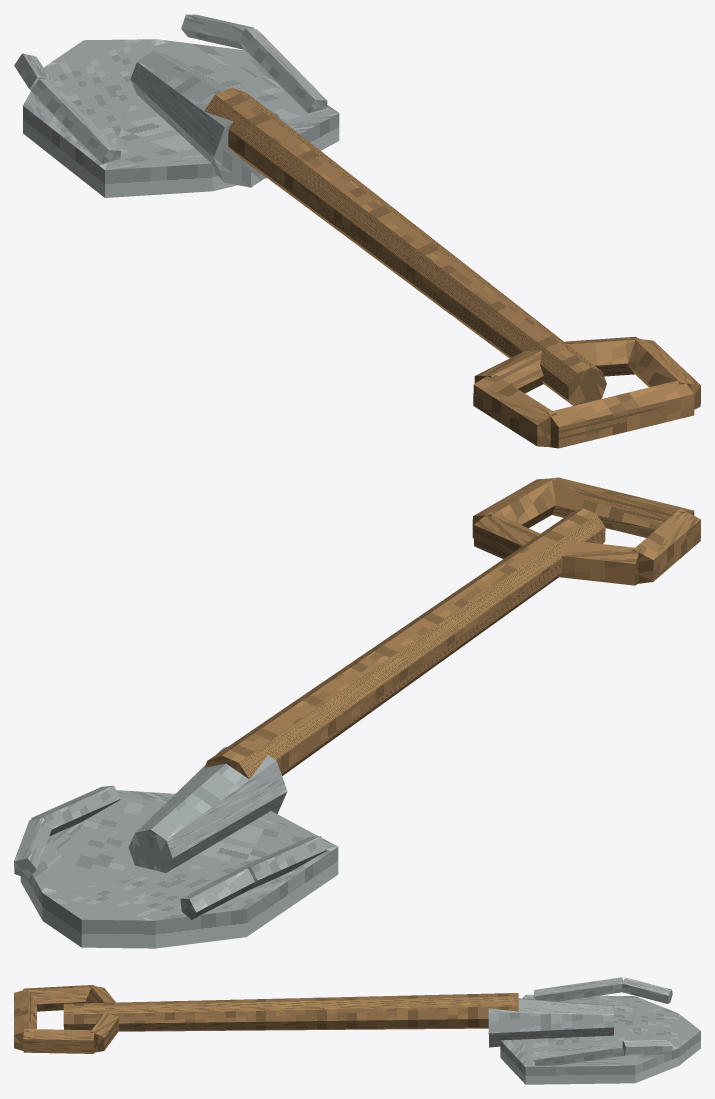
Rendered from shovel.glb.
The picture shows the model from 3 angles, top to bottom: view 1: azimuth 30°, elevation 25°; view 2: azimuth 150°, elevation 25°; view 3: azimuth 270°, elevation 25°; orthographic projection. The views are drawn at different scales.
Parts seen in each view (by area): view 1: block_handle, block_dished shovel head, block_socket, block_D handle 2, block_raised scoop edge 0 (×2), block_D handle 1, block_raised scoop edge 1 (×2), block_D handle 3, block_D handle 4, block_D handle 0; view 2: block_dished shovel head, block_handle, block_socket, block_D handle 2, block_raised scoop edge 0 (×2), block_raised scoop edge 1 (×2), block_D handle 0, block_D handle 1, block_D handle 3, block_D handle 4; view 3: block_handle, block_dished shovel head, block_socket, block_raised scoop edge 0 (×2), block_D handle 3, block_raised scoop edge 1 (×2), block_D handle 1, block_D handle 2, block_D handle 4, block_D handle 0.
Part boxes in pixels (x1,y1,x2,y2): block_handle: [204, 87, 606, 405]; block_dished shovel head: [23, 39, 339, 197]; block_socket: [130, 51, 279, 187]; block_D handle 2: [547, 379, 694, 448]; block_raised scoop edge 0 (×2): [31, 28, 327, 163]; block_D handle 1: [473, 373, 556, 447]; block_raised scoop edge 1 (×2): [14, 14, 254, 90]; block_D handle 3: [627, 338, 700, 409]; block_D handle 4: [564, 336, 640, 376]; block_D handle 0: [474, 350, 543, 393]; block_dished shovel head: [20, 790, 338, 948]; block_handle: [204, 508, 605, 779]; block_socket: [128, 747, 287, 872]; block_D handle 2: [546, 477, 694, 537]; block_raised scoop edge 0 (×2): [31, 785, 327, 889]; block_raised scoop edge 1 (×2): [14, 817, 254, 919]; block_D handle 0: [558, 540, 640, 585]; block_D handle 1: [632, 508, 700, 583]; block_D handle 3: [472, 478, 556, 538]; block_D handle 4: [473, 512, 541, 558]; block_handle: [63, 993, 518, 1031]; block_dished shovel head: [500, 994, 700, 1084]; block_socket: [488, 998, 613, 1047]; block_raised scoop edge 0 (×2): [534, 977, 623, 1065]; block_D handle 3: [23, 1029, 94, 1053]; block_raised scoop edge 1 (×2): [622, 977, 672, 1055]; block_D handle 1: [23, 985, 94, 1011]; block_D handle 2: [14, 989, 36, 1050]; block_D handle 4: [90, 1011, 119, 1052]; block_D handle 0: [85, 985, 115, 1003].
Bounding box in the file's own units: 0.3492 × 0.1208 × 1.4.
1 material, 1 textured.
